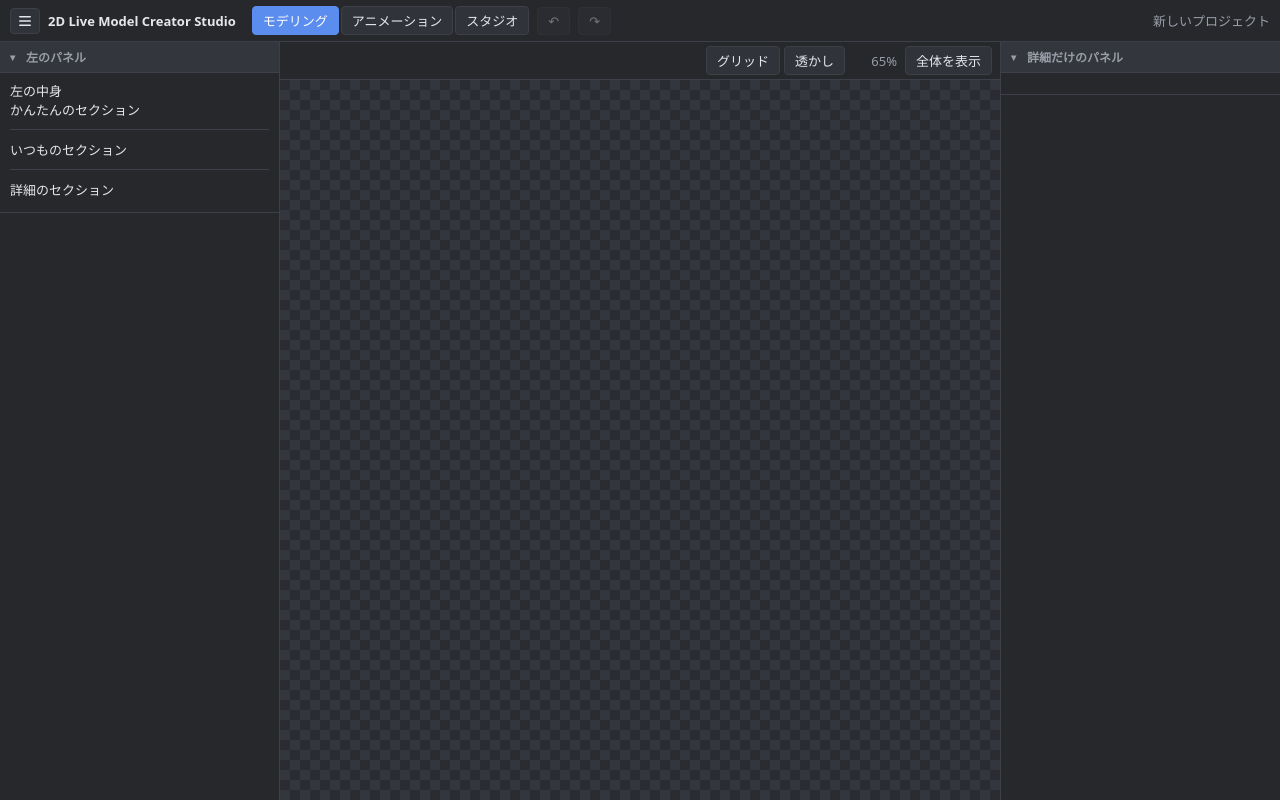
Test case: モードとパネル › 3つのモードを切り替えられ、テスト用のパネルとセクションが出る
The width and height of the screenshot is (1280, 800).
Expected: the button "▾ 左のパネル" is shown, [0, 42, 279, 72]
Expected: the drawing with test id "canvas-main" is shown, [280, 80, 1000, 799]
Click the tab "スタジオ" at (492, 20), box [455, 6, 529, 35]
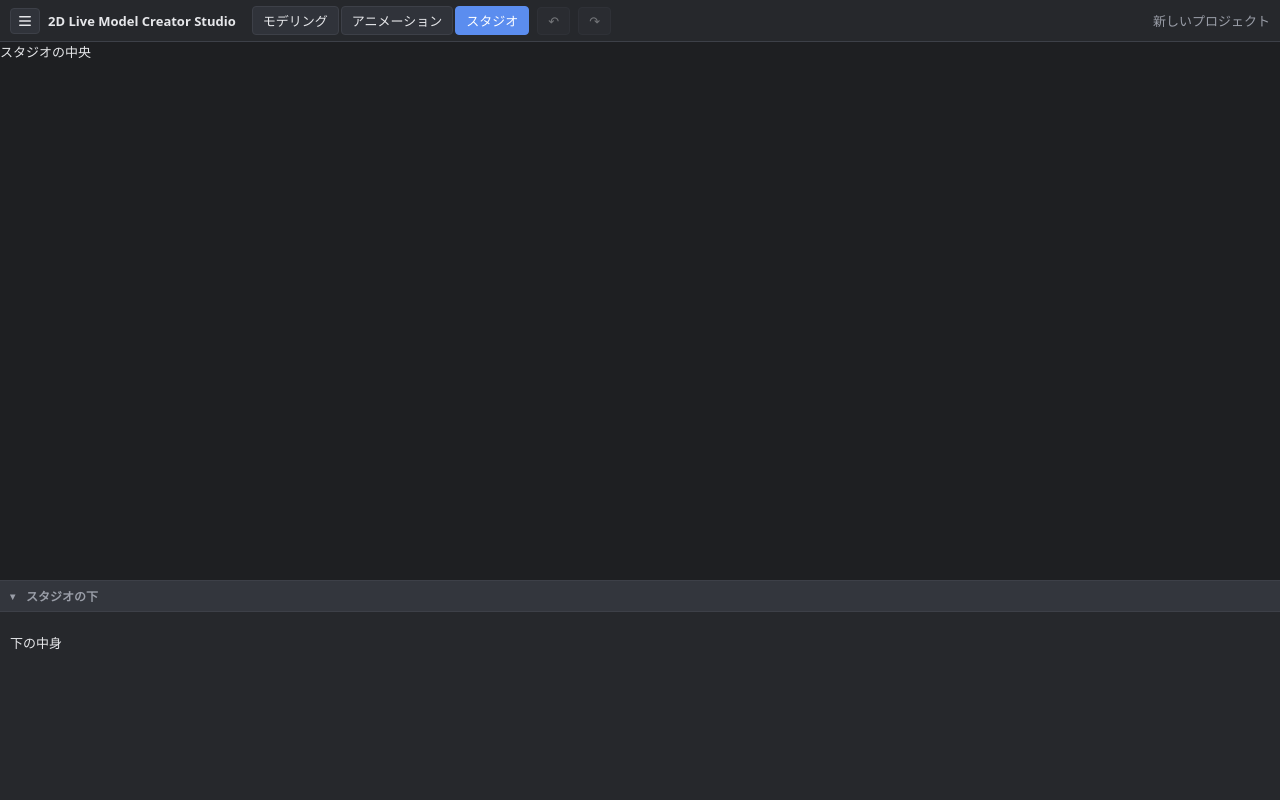
Expected: the text "スタジオの中央" is shown, [0, 43, 91, 61]
Expected: the text "下の中身" is shown, [10, 634, 62, 652]
Expected: the button "左のパネル" is gone
Click the tab "アニメーション" at (397, 20), box [341, 6, 453, 35]
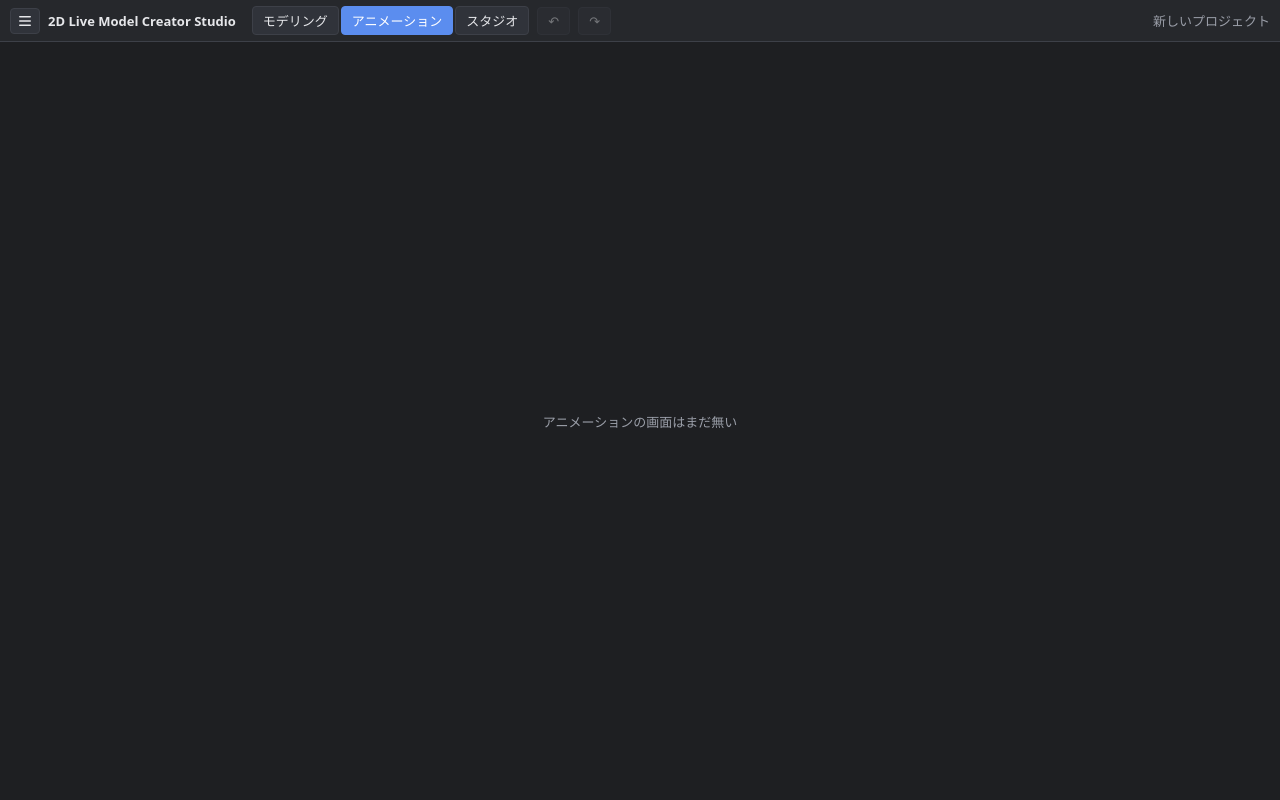
Expected: the text "スタジオの中央" is gone
Click the tab "モデリング" at (295, 20), box [252, 6, 339, 35]
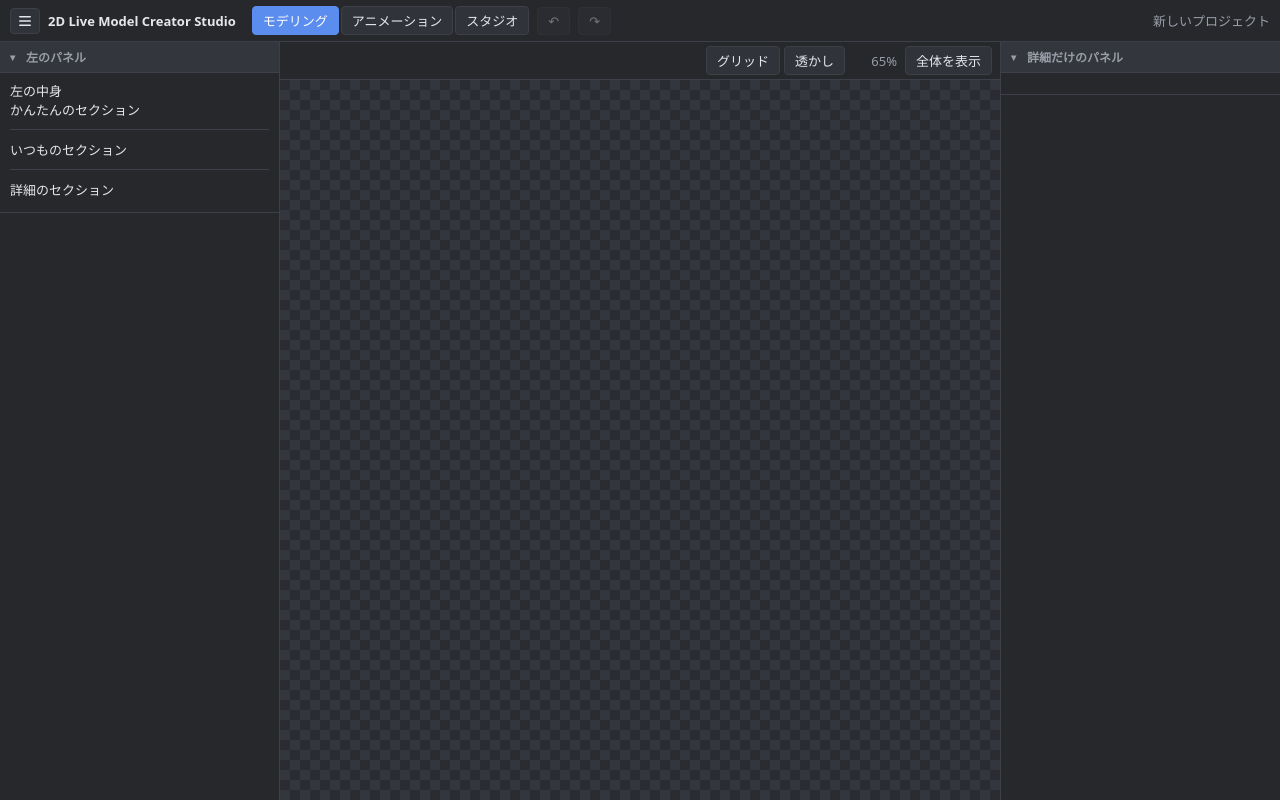
Expected: the button "▾ 左のパネル" is shown, [0, 42, 279, 72]
